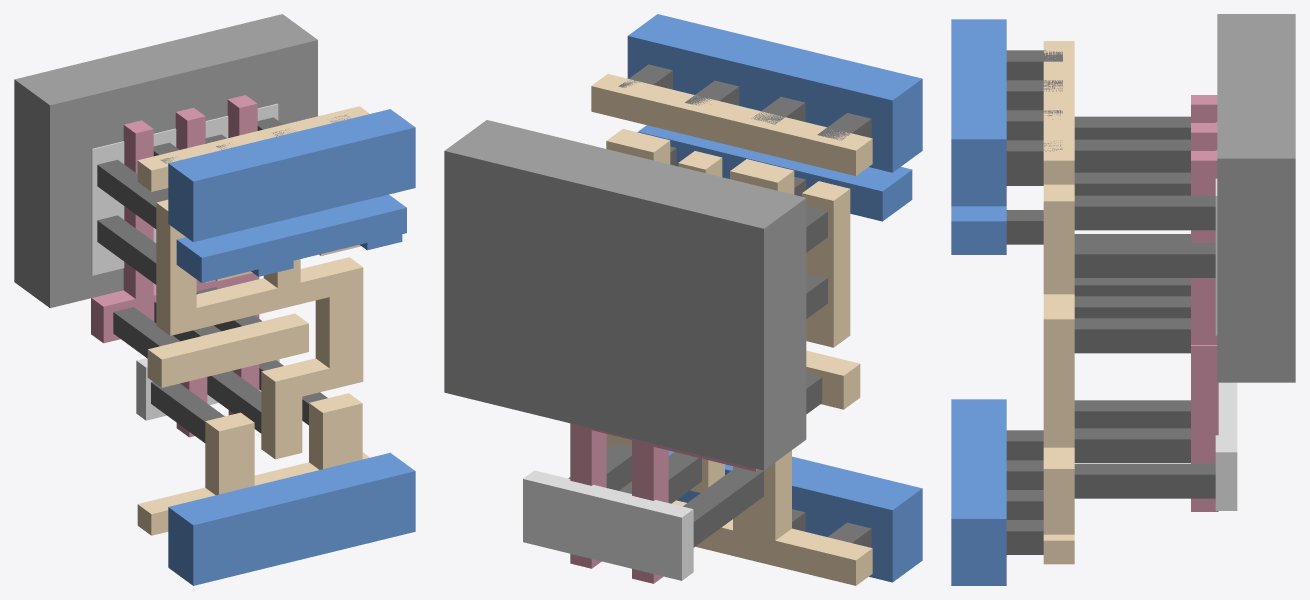
The model's file is sky130_fd_sc_hd__lpflow_clkinvkapwr_2.gds.gltf.
The picture shows the model from 3 angles, left to right: view 1: azimuth 30°, elevation 25°; view 2: azimuth 150°, elevation 25°; view 3: azimuth 270°, elevation 25°; orthographic projection. The views are drawn at different scales.
Visible parts, largest first — view 1: sky130_fd_sc_hd__lpflow_clkinvkapwr_2_met1, sky130_fd_sc_hd__lpflow_clkinvkapwr_2_li1, sky130_fd_sc_hd__lpflow_clkinvkapwr_2_nwell, sky130_fd_sc_hd__lpflow_clkinvkapwr_2_licon, sky130_fd_sc_hd__lpflow_clkinvkapwr_2_poly, sky130_fd_sc_hd__lpflow_clkinvkapwr_2_diff; view 2: sky130_fd_sc_hd__lpflow_clkinvkapwr_2_nwell, sky130_fd_sc_hd__lpflow_clkinvkapwr_2_met1, sky130_fd_sc_hd__lpflow_clkinvkapwr_2_li1, sky130_fd_sc_hd__lpflow_clkinvkapwr_2_diff, sky130_fd_sc_hd__lpflow_clkinvkapwr_2_licon, sky130_fd_sc_hd__lpflow_clkinvkapwr_2_poly, sky130_fd_sc_hd__lpflow_clkinvkapwr_2_mcon; view 3: sky130_fd_sc_hd__lpflow_clkinvkapwr_2_licon, sky130_fd_sc_hd__lpflow_clkinvkapwr_2_nwell, sky130_fd_sc_hd__lpflow_clkinvkapwr_2_met1, sky130_fd_sc_hd__lpflow_clkinvkapwr_2_li1, sky130_fd_sc_hd__lpflow_clkinvkapwr_2_mcon, sky130_fd_sc_hd__lpflow_clkinvkapwr_2_poly, sky130_fd_sc_hd__lpflow_clkinvkapwr_2_diff.
Part boxes in pixels (left/top/right/bottom): sky130_fd_sc_hd__lpflow_clkinvkapwr_2_met1: left=168, top=109, right=415, bottom=585; sky130_fd_sc_hd__lpflow_clkinvkapwr_2_li1: left=137, top=106, right=369, bottom=535; sky130_fd_sc_hd__lpflow_clkinvkapwr_2_nwell: left=14, top=14, right=317, bottom=307; sky130_fd_sc_hd__lpflow_clkinvkapwr_2_licon: left=97, top=117, right=327, bottom=442; sky130_fd_sc_hd__lpflow_clkinvkapwr_2_poly: left=91, top=95, right=259, bottom=437; sky130_fd_sc_hd__lpflow_clkinvkapwr_2_diff: left=91, top=103, right=279, bottom=420; sky130_fd_sc_hd__lpflow_clkinvkapwr_2_nwell: left=444, top=120, right=806, bottom=470; sky130_fd_sc_hd__lpflow_clkinvkapwr_2_met1: left=627, top=14, right=922, bottom=582; sky130_fd_sc_hd__lpflow_clkinvkapwr_2_li1: left=591, top=74, right=872, bottom=585; sky130_fd_sc_hd__lpflow_clkinvkapwr_2_diff: left=523, top=470, right=693, bottom=580; sky130_fd_sc_hd__lpflow_clkinvkapwr_2_licon: left=568, top=206, right=827, bottom=547; sky130_fd_sc_hd__lpflow_clkinvkapwr_2_poly: left=570, top=423, right=758, bottom=583; sky130_fd_sc_hd__lpflow_clkinvkapwr_2_mcon: left=618, top=64, right=871, bottom=547; sky130_fd_sc_hd__lpflow_clkinvkapwr_2_licon: left=1074, top=116, right=1215, bottom=498; sky130_fd_sc_hd__lpflow_clkinvkapwr_2_nwell: left=1217, top=14, right=1295, bottom=382; sky130_fd_sc_hd__lpflow_clkinvkapwr_2_met1: left=951, top=19, right=1006, bottom=585; sky130_fd_sc_hd__lpflow_clkinvkapwr_2_li1: left=1043, top=41, right=1074, bottom=564; sky130_fd_sc_hd__lpflow_clkinvkapwr_2_mcon: left=1006, top=50, right=1062, bottom=554; sky130_fd_sc_hd__lpflow_clkinvkapwr_2_poly: left=1191, top=95, right=1218, bottom=511; sky130_fd_sc_hd__lpflow_clkinvkapwr_2_diff: left=1215, top=122, right=1237, bottom=510.
Size of the model in its own units: 2.22 by 3.2 by 2.24.
